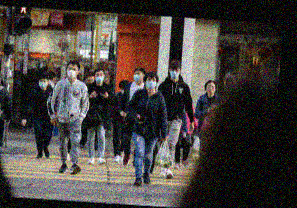with_mask: (66, 66, 78, 78), (168, 66, 180, 78), (145, 76, 156, 89), (94, 71, 105, 83), (132, 70, 143, 82), (38, 78, 47, 89)
without_mask: (206, 83, 216, 93), (85, 76, 95, 84)
